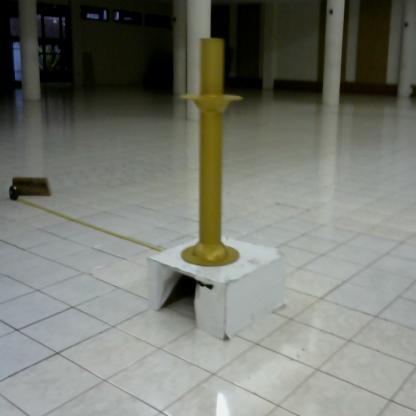pole: (169, 34, 259, 274)
